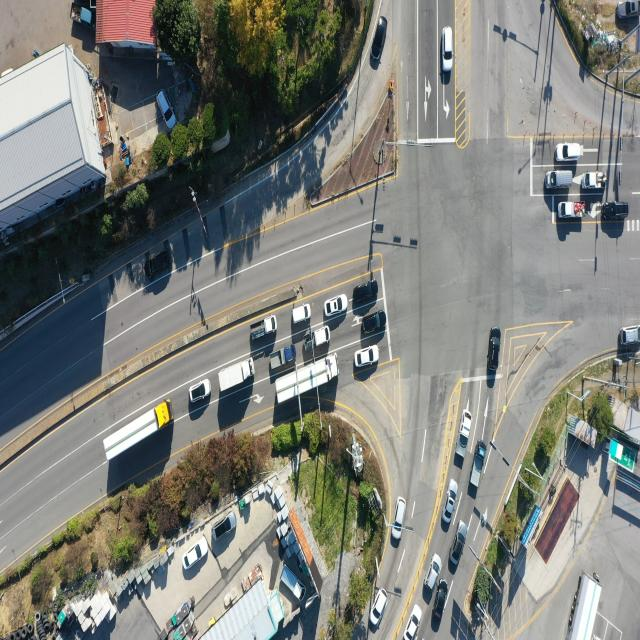car: (184, 539, 210, 572), (451, 522, 468, 568), (488, 329, 501, 388), (156, 92, 175, 132), (370, 14, 386, 61), (444, 479, 460, 523), (213, 512, 236, 540), (372, 587, 388, 626), (405, 606, 423, 640), (425, 554, 441, 592), (432, 580, 448, 618), (363, 311, 388, 335), (546, 170, 576, 190), (188, 379, 210, 405), (392, 497, 405, 540), (354, 346, 379, 368), (353, 281, 378, 303), (602, 202, 628, 222), (556, 143, 582, 162), (326, 294, 348, 316), (616, 0, 639, 21), (444, 28, 454, 74), (290, 304, 310, 325), (620, 326, 640, 347)
medium_truck: (102, 399, 171, 463), (272, 353, 338, 404), (566, 570, 602, 638), (219, 358, 255, 394)
small_truck: (454, 409, 472, 465), (280, 565, 305, 598), (469, 442, 486, 488), (252, 317, 279, 343), (269, 344, 296, 370), (70, 1, 93, 27), (557, 200, 584, 220), (311, 326, 334, 349), (583, 172, 606, 190)
